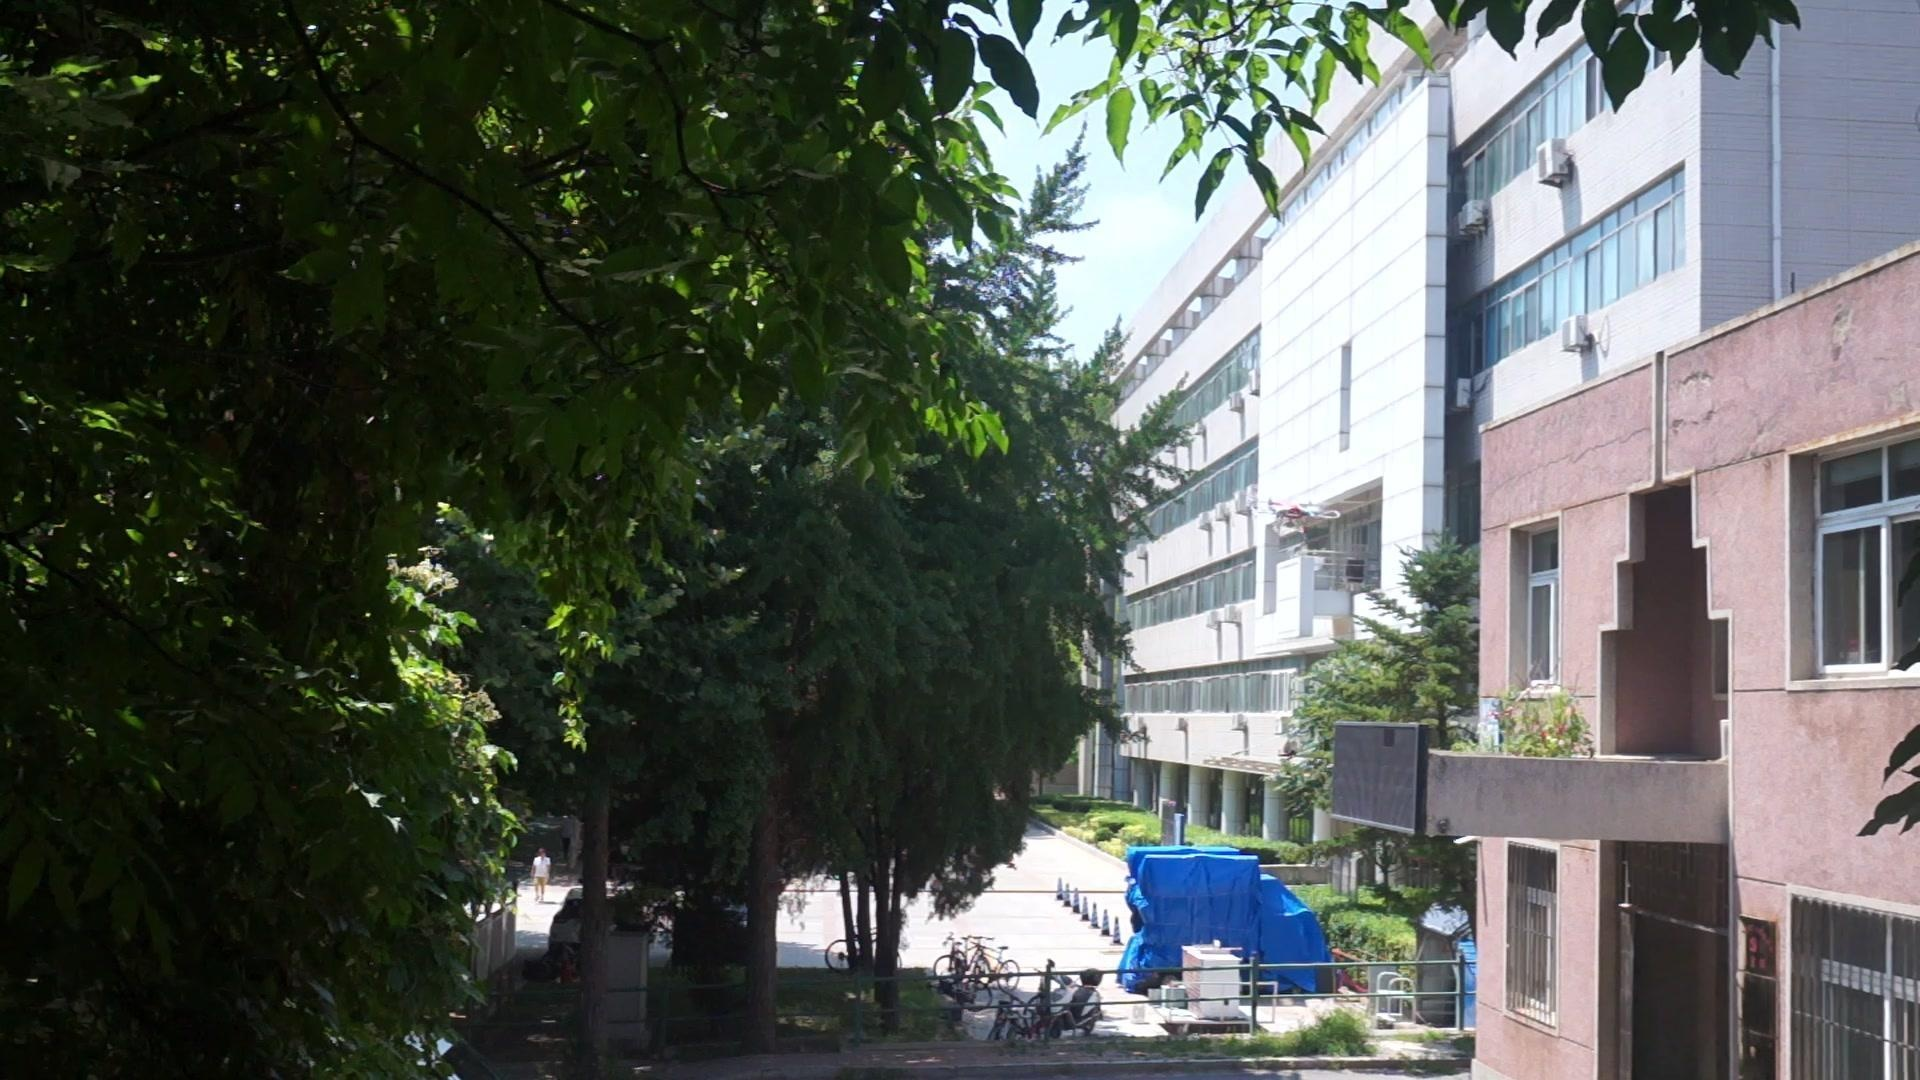UAV: (1251, 497, 1342, 533)
